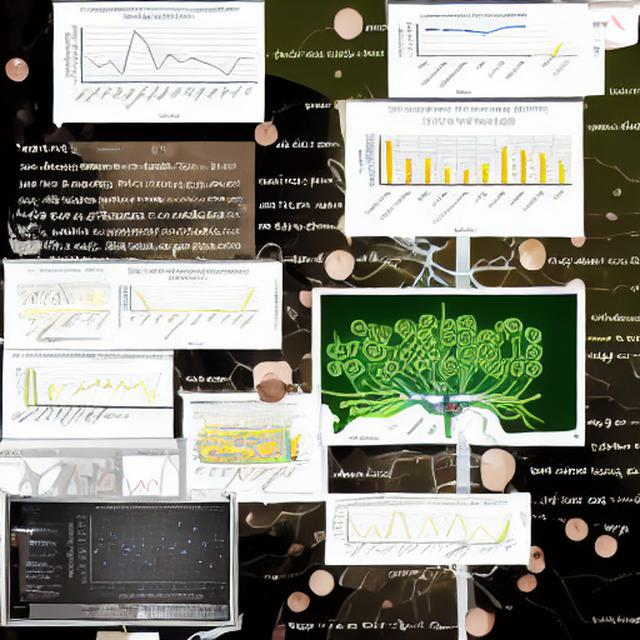Graph: (351, 102, 576, 235), (59, 3, 262, 122), (67, 503, 230, 602), (116, 266, 263, 348), (396, 11, 537, 96), (330, 502, 421, 557), (113, 448, 186, 503)
